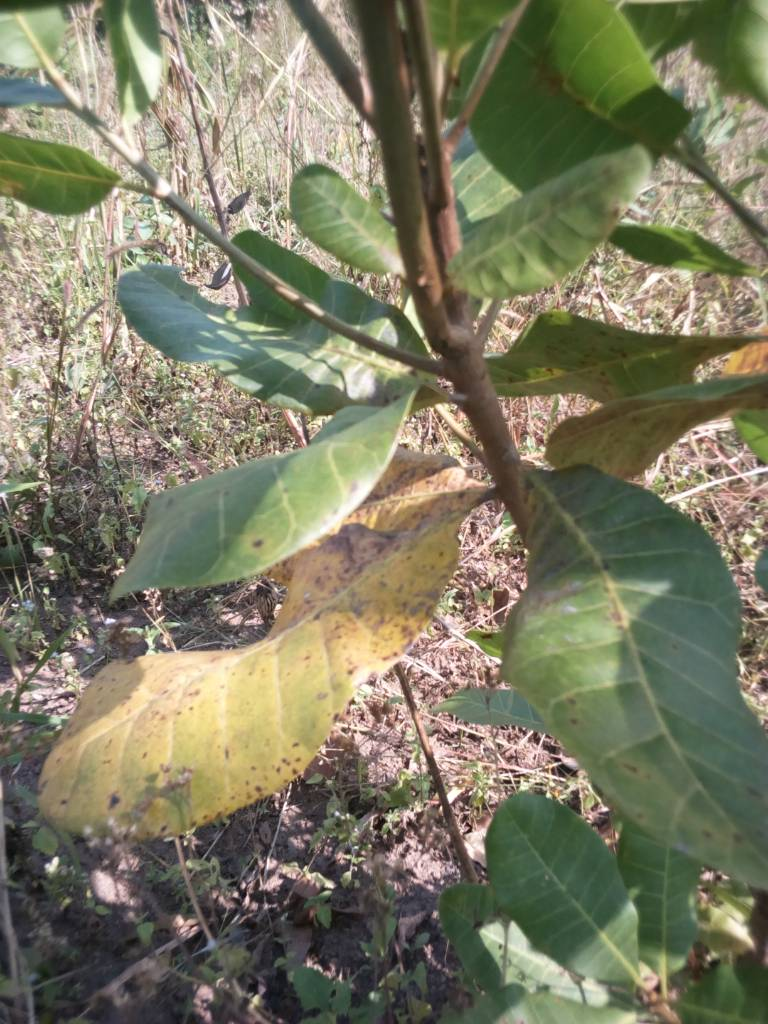Anthracnose: (33, 441, 497, 827), (502, 464, 768, 880), (486, 321, 768, 477)
